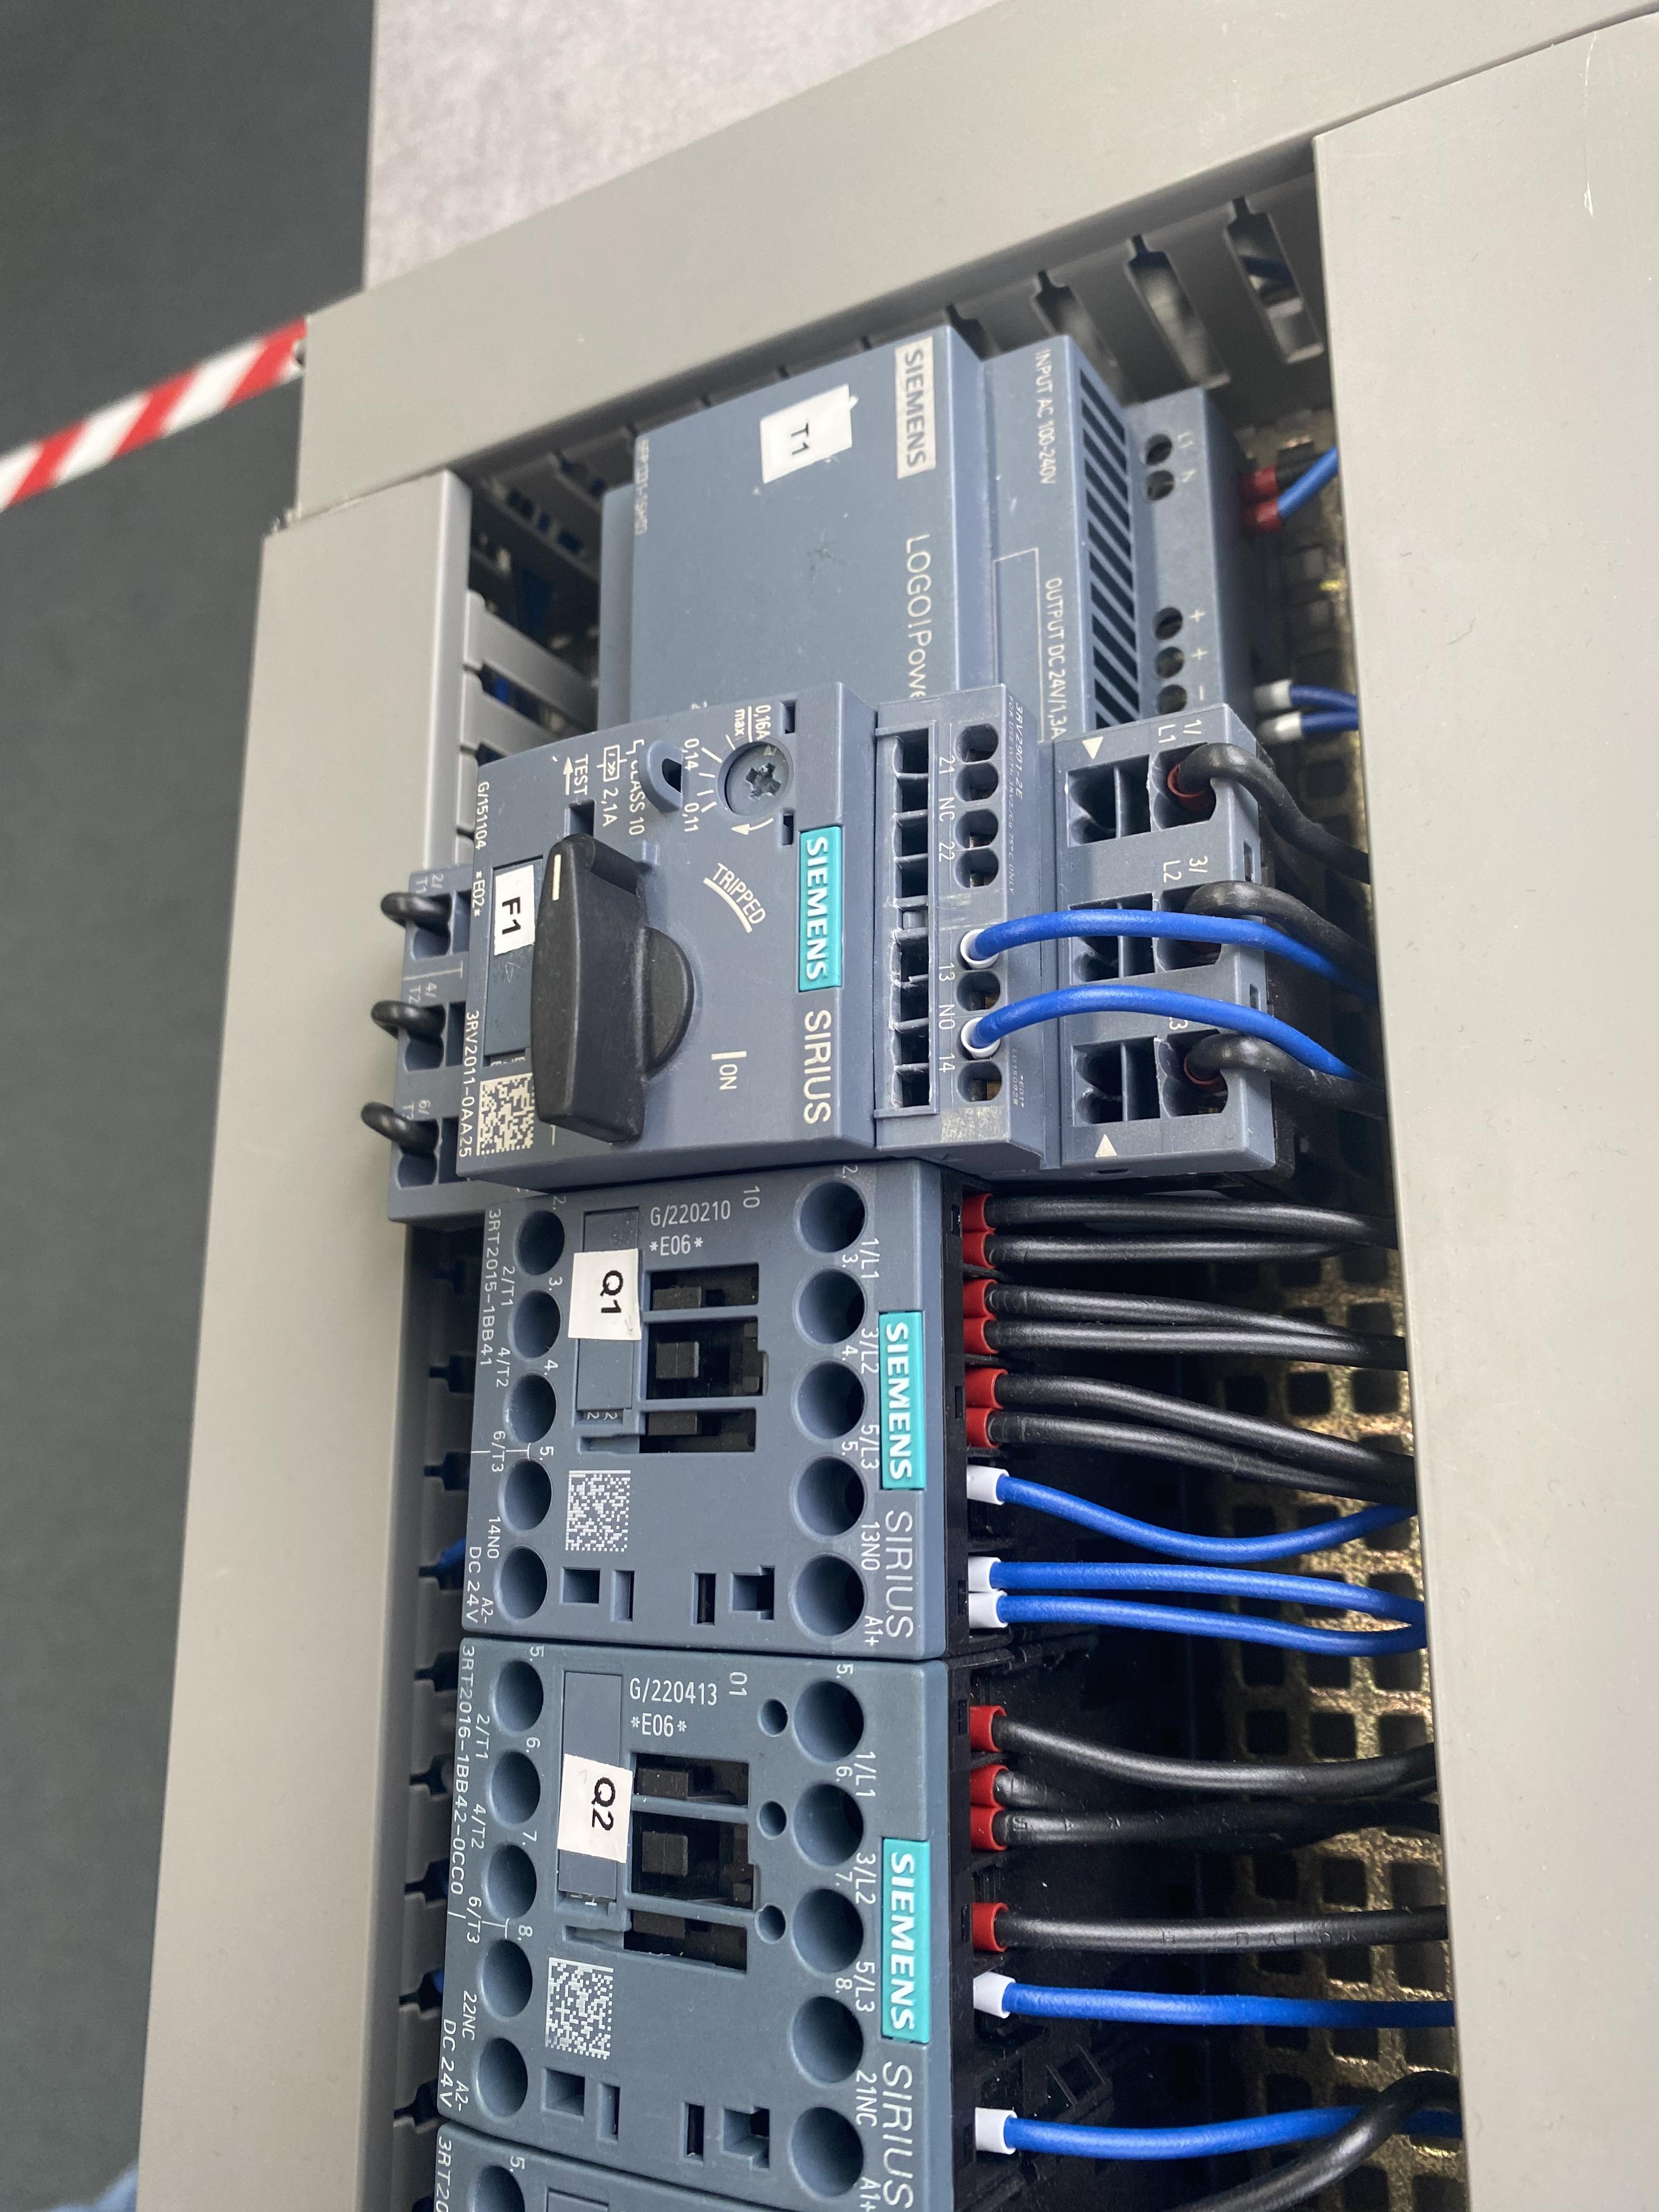F1: (387, 679, 1249, 1226)
Q: (462, 1153, 925, 1662)
Q2: (437, 1632, 948, 2207)
T1: (594, 322, 1225, 707)
